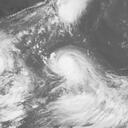cyclone: (45, 44, 98, 89)
